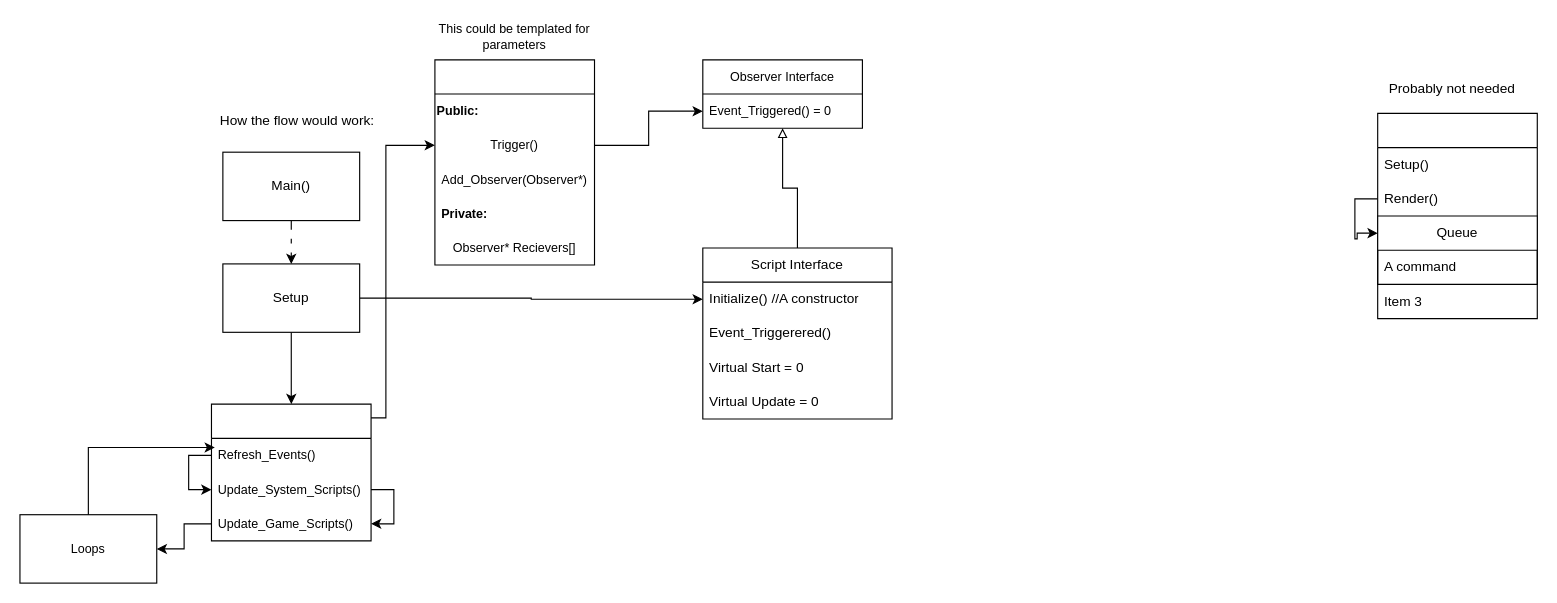
The diagram is 1557 pixels wide and 603 high, and some of its shapes have lost their labels. Each missing label, with the box of its shape:
Event: (434, 59, 595, 265)
Graphics Manager (Singleton): (1377, 112, 1537, 319)
System Manager (Singleton): (210, 403, 371, 541)
